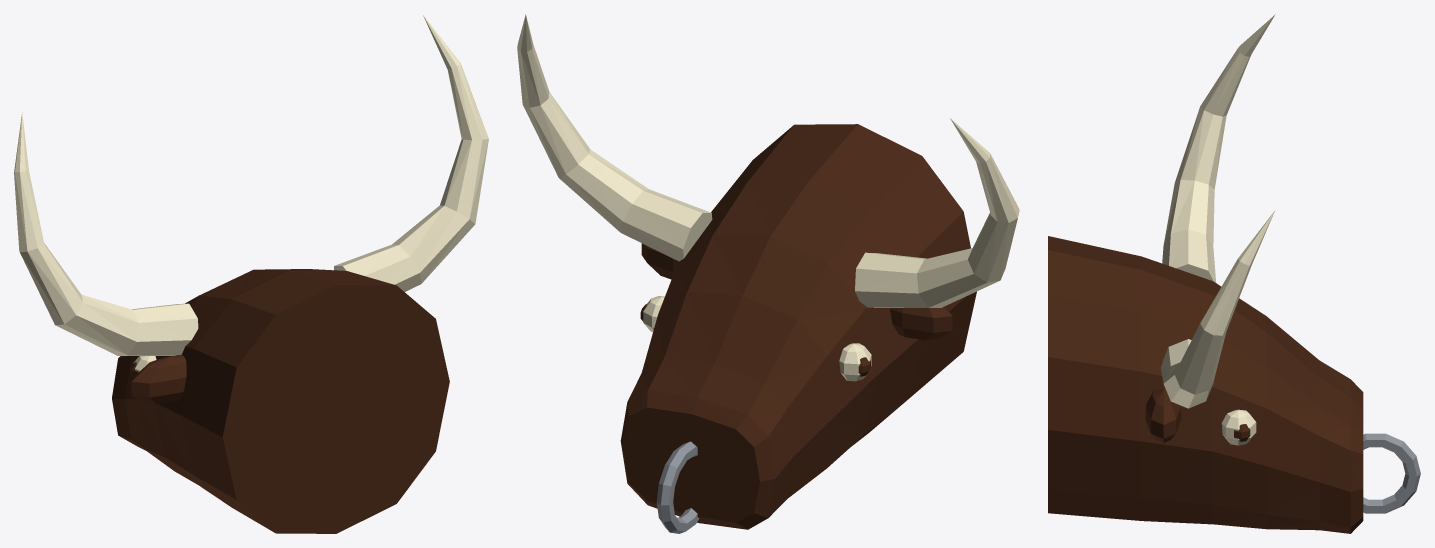
The model's file is Toro_Cabeza.obj.
3 renders of one model, left to right at view 1: azimuth 30°, elevation 25°; view 2: azimuth 150°, elevation 25°; view 3: azimuth 270°, elevation 25°, orthographic. The views are drawn at different scales.
Visible parts, largest first — view 1: Toro_Cabeza; view 2: Toro_Cabeza; view 3: Toro_Cabeza.
Boxes of the visible parts, bbox=[...] form: Toro_Cabeza: bbox=[14, 15, 488, 533]; Toro_Cabeza: bbox=[517, 14, 1019, 533]; Toro_Cabeza: bbox=[1048, 14, 1420, 533].
Size of the model in its own units: 1.73 by 1.43 by 1.19.
